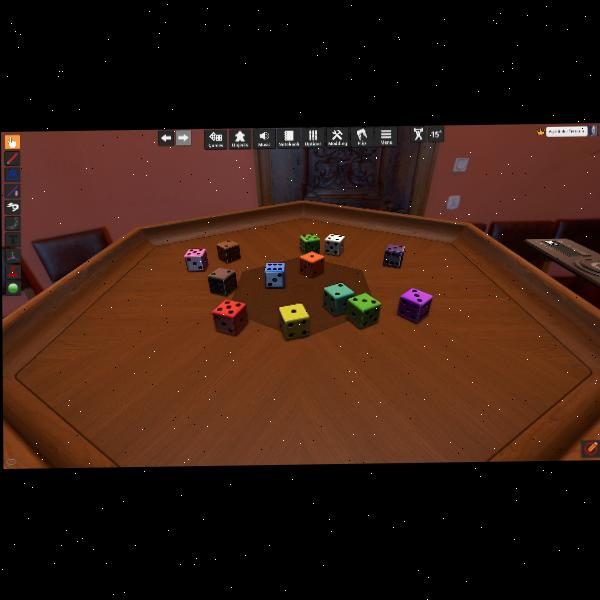d6: (346, 291, 383, 330), (212, 299, 247, 336), (396, 286, 430, 324), (277, 303, 308, 340), (323, 282, 352, 316), (208, 267, 237, 296), (184, 247, 208, 271), (216, 239, 239, 264), (264, 262, 286, 288), (299, 253, 321, 278), (383, 243, 405, 267), (325, 232, 345, 256), (299, 233, 318, 256)
